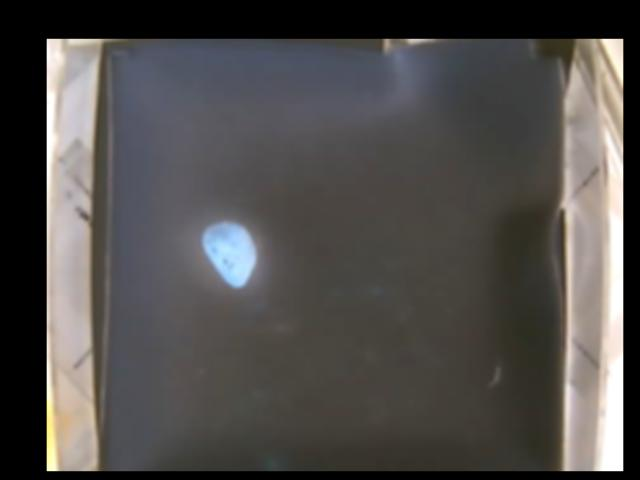Pebble: (193, 221, 253, 288)
